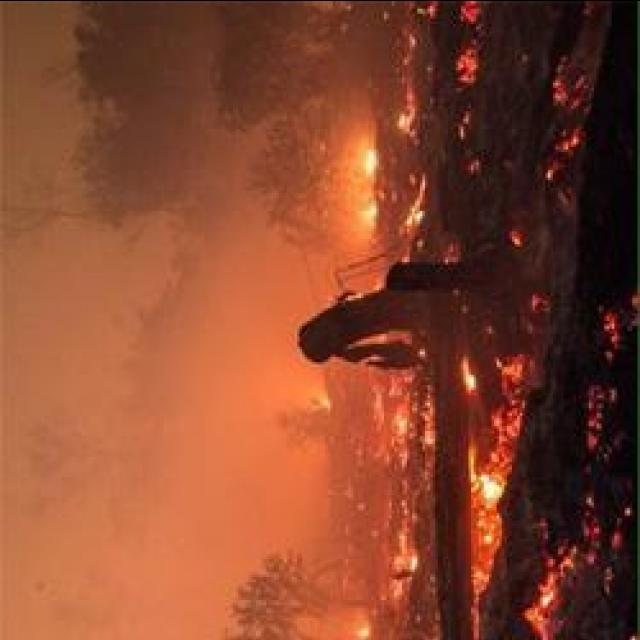fire: (544, 70, 584, 106), (457, 42, 490, 84), (348, 196, 383, 232), (476, 476, 506, 514), (397, 545, 426, 584), (456, 0, 492, 31), (358, 136, 381, 183), (518, 594, 549, 628), (407, 186, 429, 223), (496, 357, 528, 382), (390, 412, 414, 444), (462, 356, 479, 396), (313, 391, 336, 418), (402, 92, 418, 130), (350, 618, 374, 640)
smoke: (97, 15, 318, 212), (118, 482, 322, 594), (88, 294, 284, 400), (248, 230, 316, 272), (329, 465, 377, 516), (240, 419, 300, 459)
